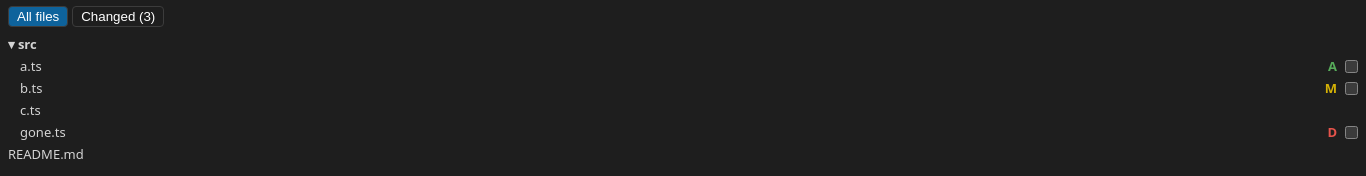
FileTree › clicking a folder collapses it without selecting anything
Click the text "src": (22, 44) [8,35,37,53]
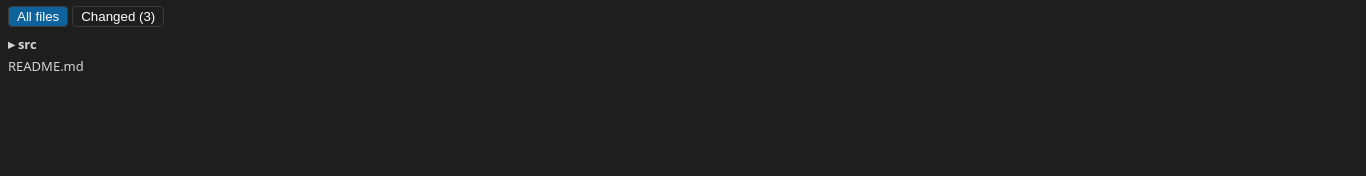
Expected: the text "README.md" is shown, [8,57,84,75]
Expected: the text "a.ts" is gone
